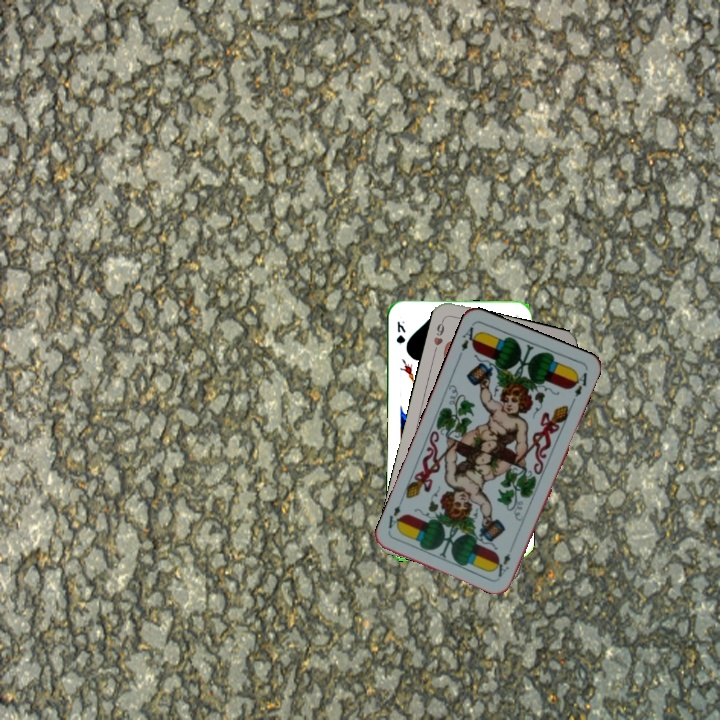EA: (454, 322, 481, 360), (494, 549, 513, 580)
GK: (393, 317, 408, 346)
H9: (429, 315, 447, 355)
